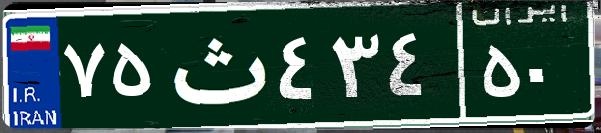0: (525, 38, 570, 115)
3: (330, 28, 385, 110)
4: (385, 28, 445, 110), (273, 28, 330, 110)
5: (475, 38, 525, 113), (110, 28, 158, 105)
7: (57, 26, 110, 107)
ث: (158, 15, 273, 115)
